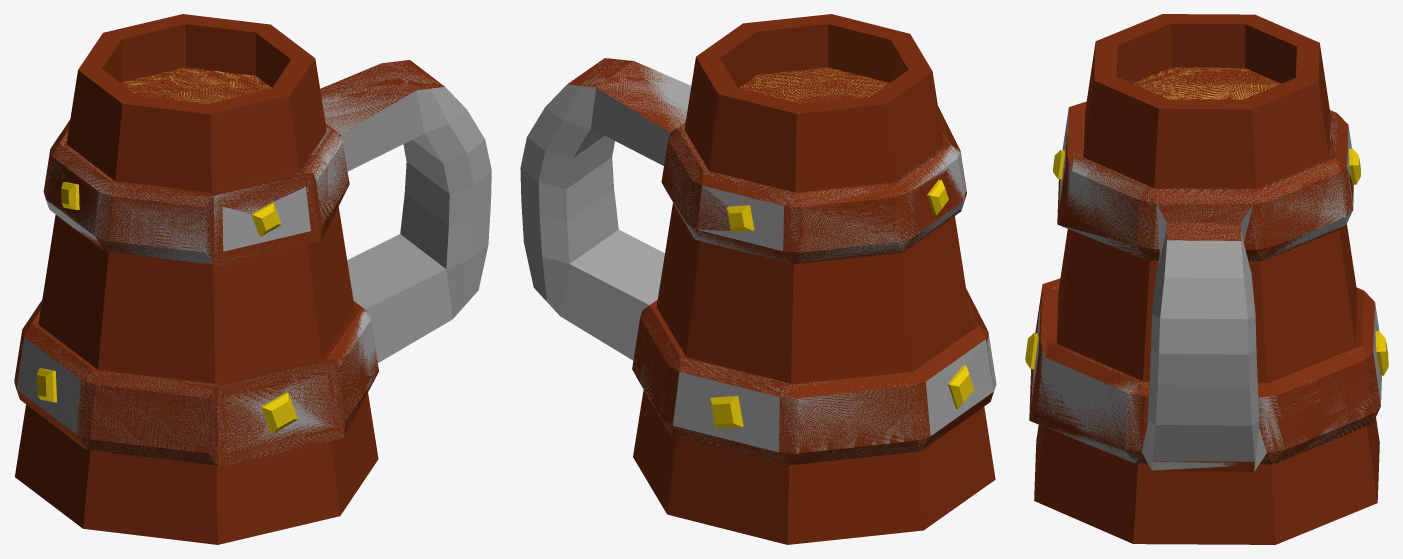
Rendered from Mug.fbx.
The picture shows the model from 3 angles, left to right: view 1: azimuth 30°, elevation 25°; view 2: azimuth 150°, elevation 25°; view 3: azimuth 270°, elevation 25°; orthographic projection.
Visible parts, largest first — view 1: Cylinder.001; view 2: Cylinder.001; view 3: Cylinder.001.
Part boxes in pixels (bbox=[...]): Cylinder.001: bbox=[14, 14, 491, 544]; Cylinder.001: bbox=[520, 14, 996, 544]; Cylinder.001: bbox=[1025, 14, 1388, 544].
Bounding box in the file's own units: 840 × 757 × 608.
